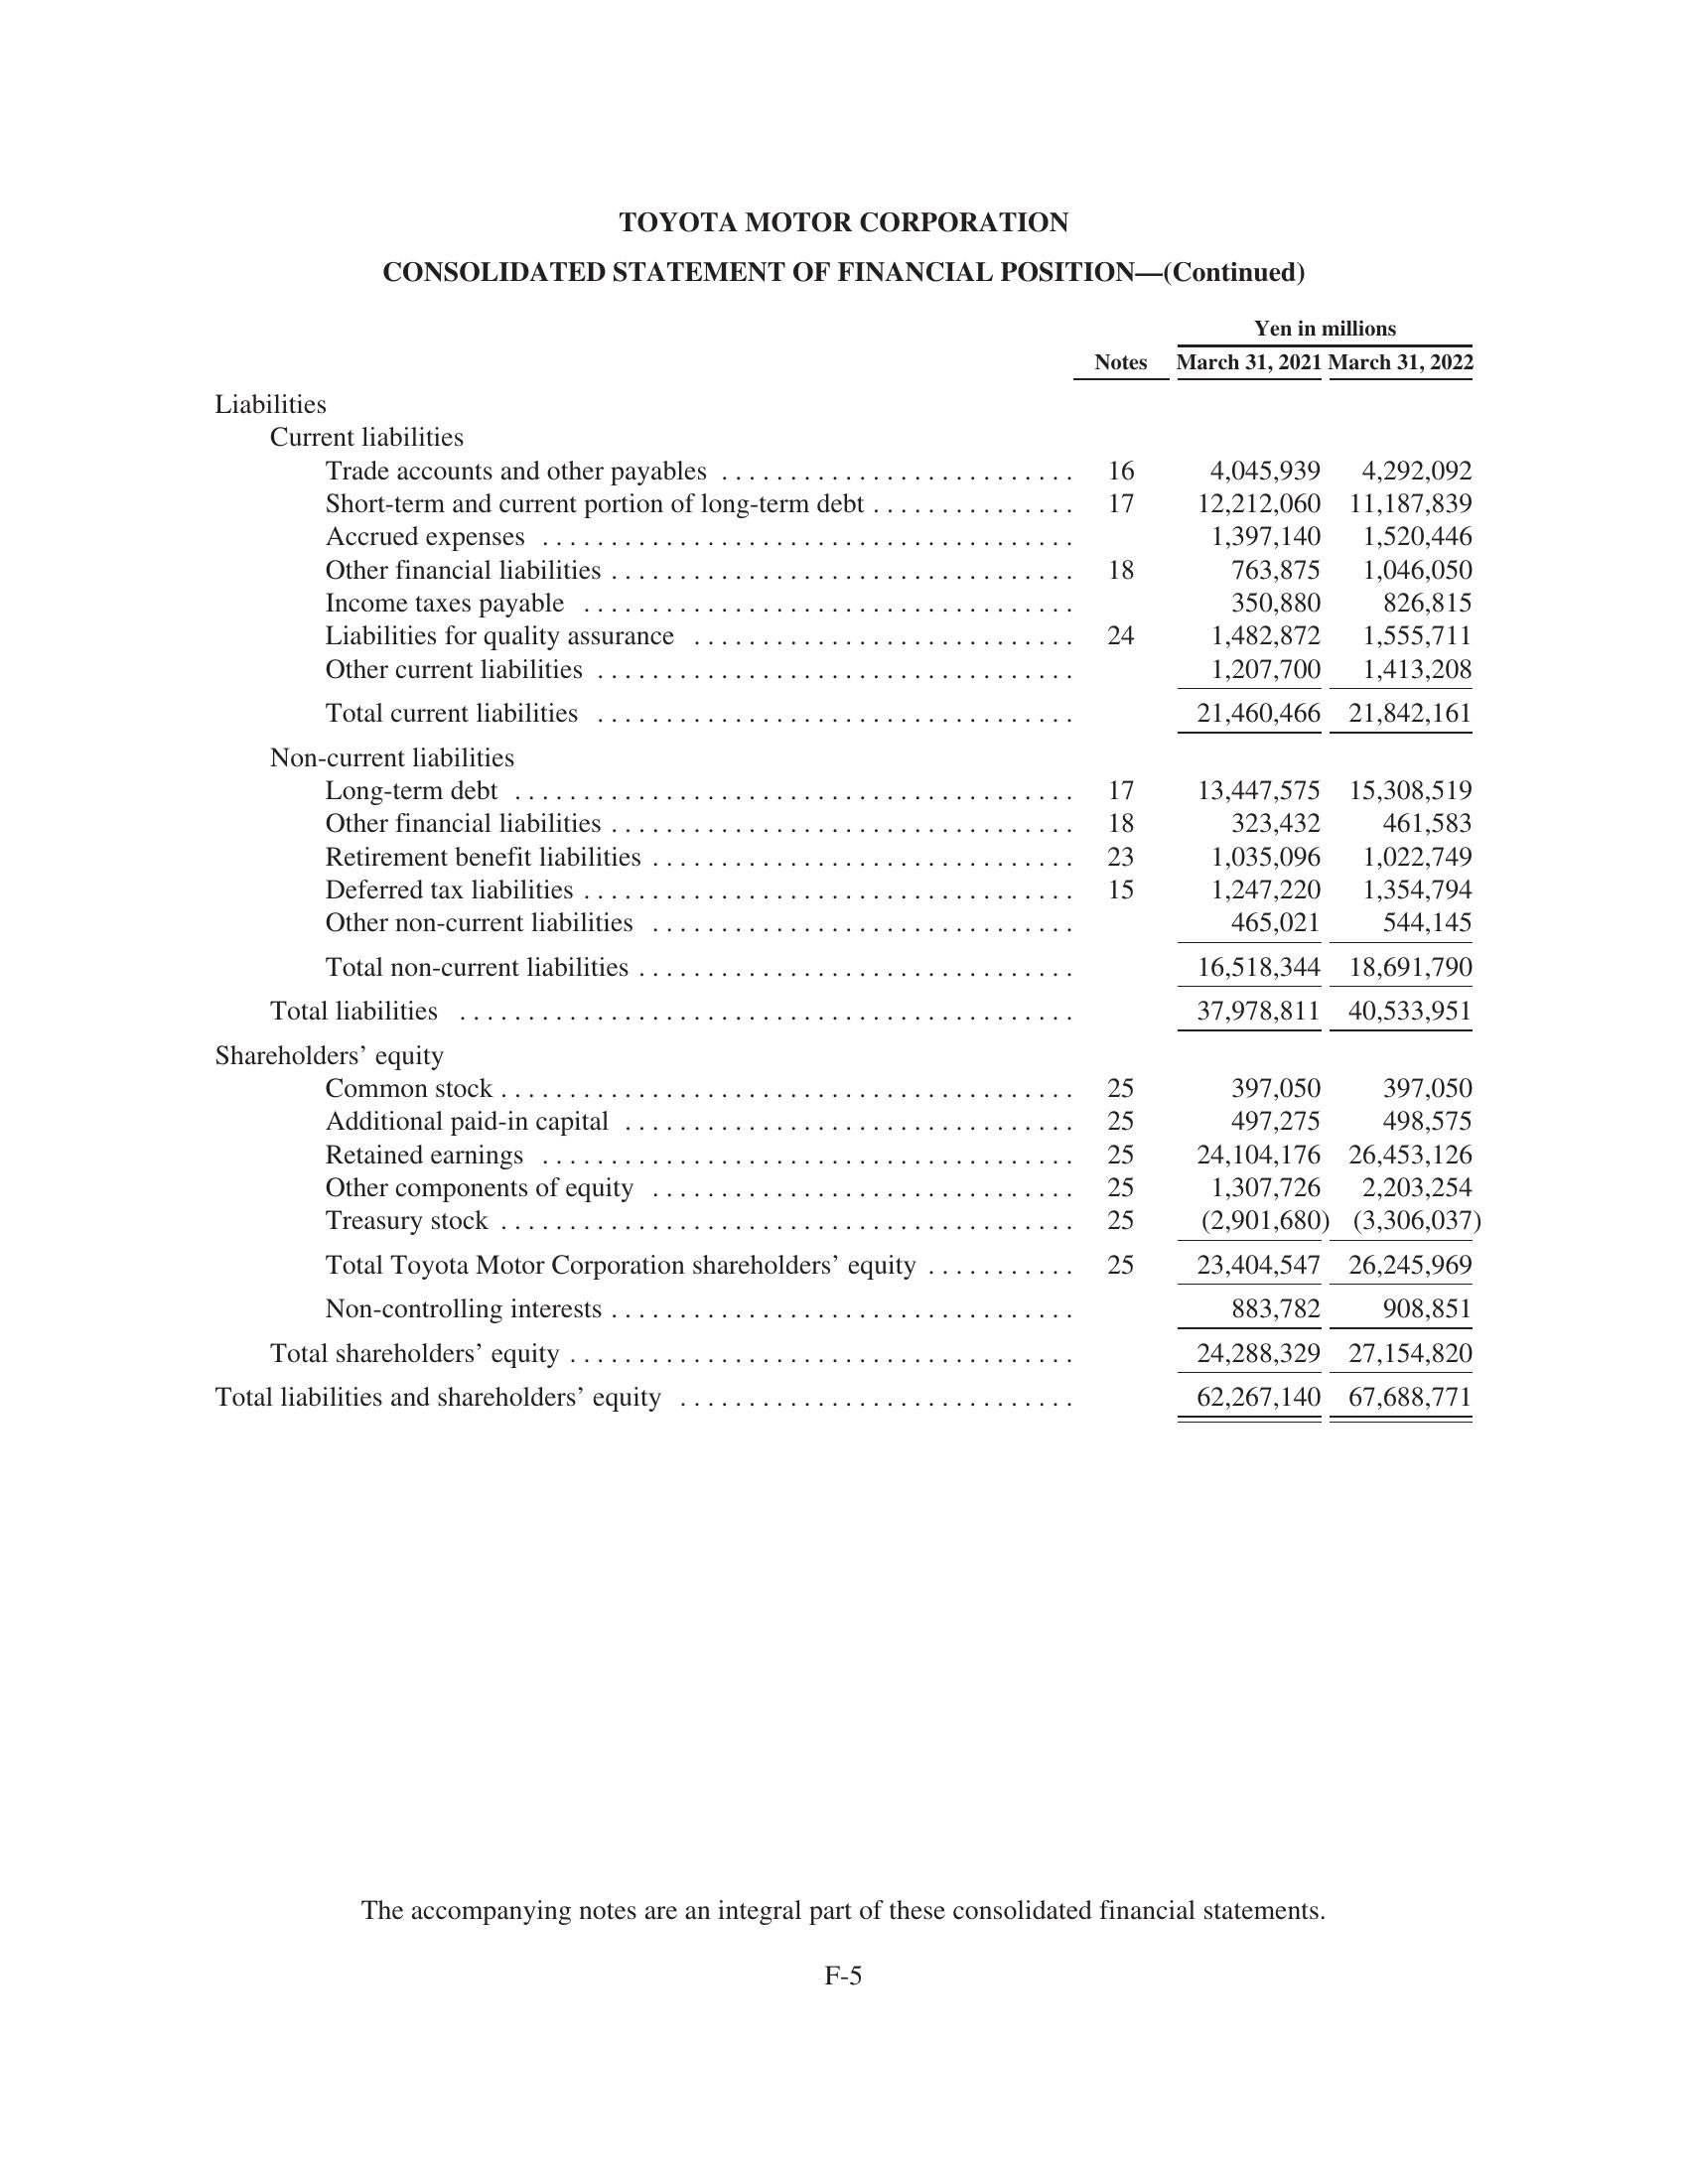Footer: (0, 1954, 1688, 2184)
Header: (0, 0, 1688, 179)
Table: (94, 307, 1491, 1443)
